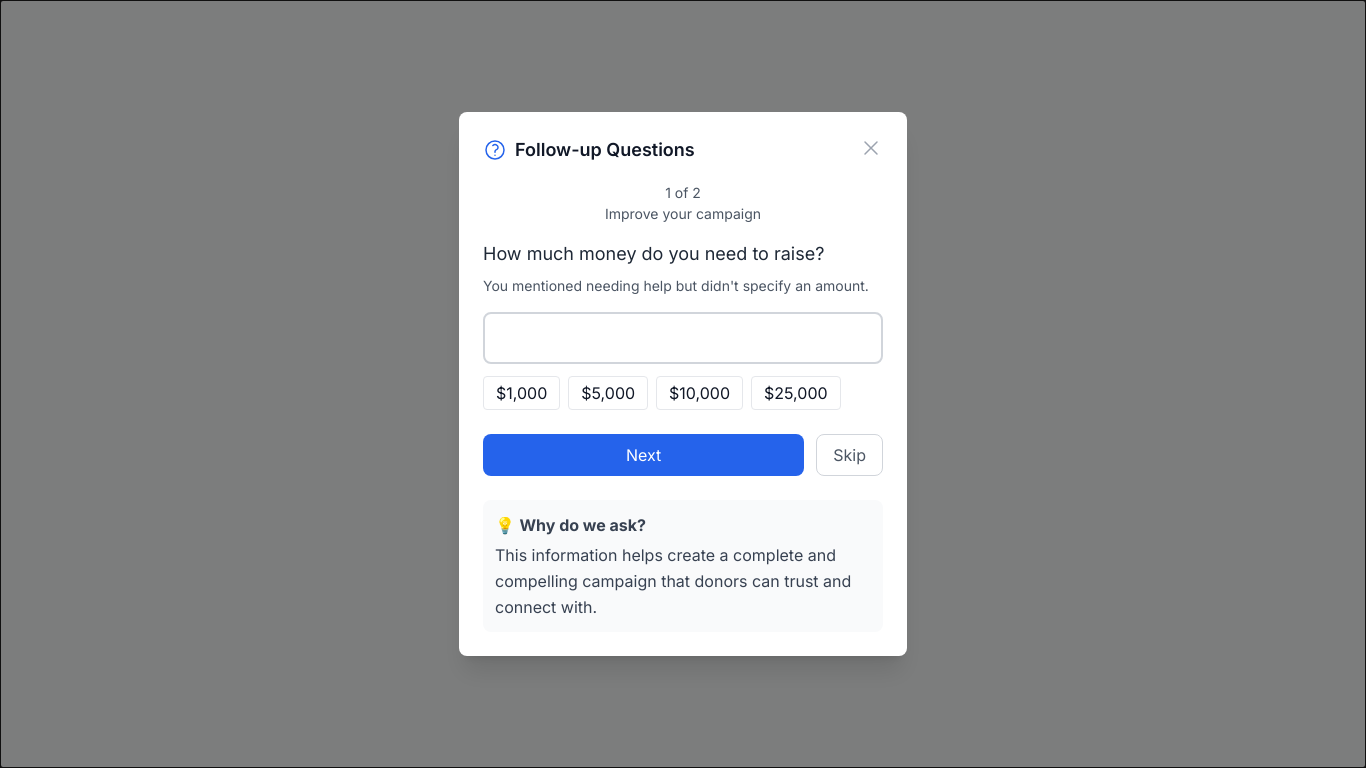
Test: FollowUpQuestionModal Component › Question Navigation › should allow going back to previous questions
The image size is (1366, 768).
// Go to second question
Type "5000" into the field at {"x": 683, "y": 338}, box [483,312,883,364]
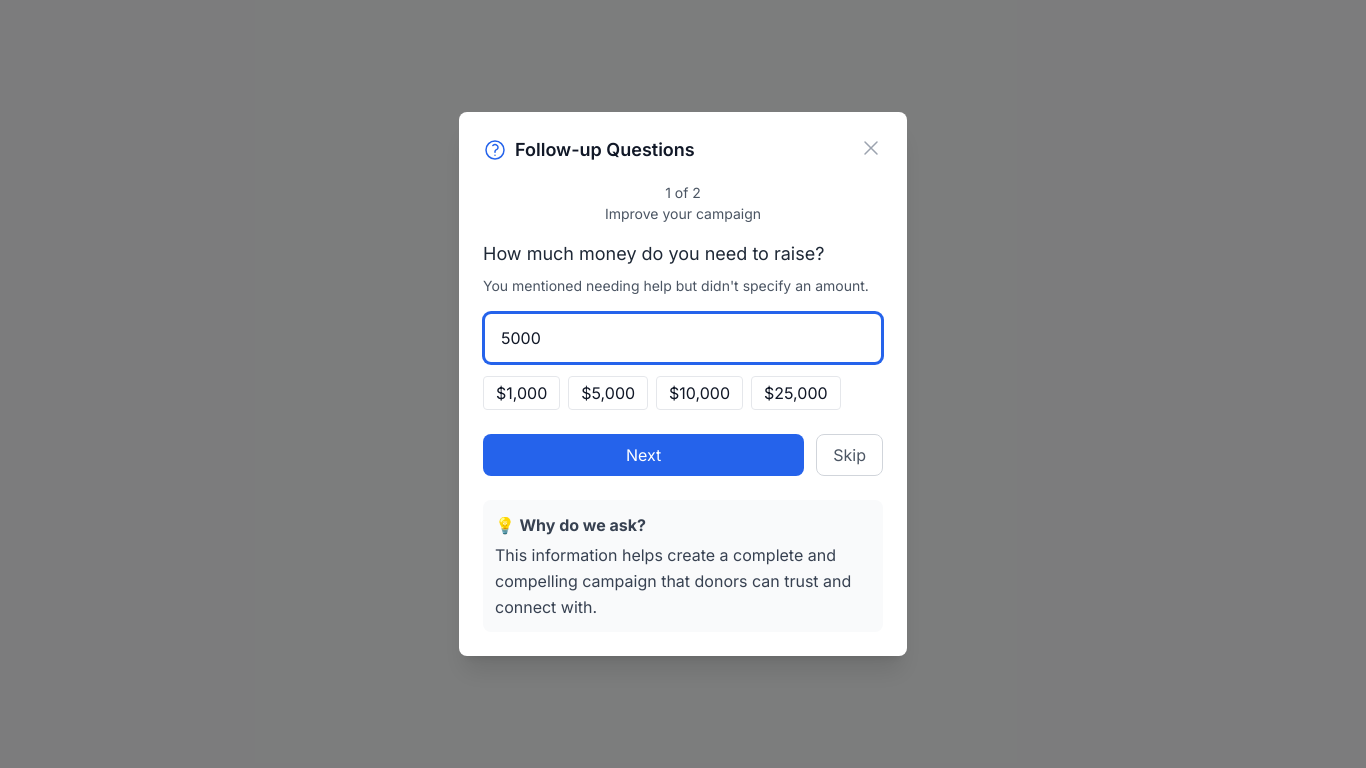
Click the button "Next" at {"x": 644, "y": 455}, box [483,434,804,476]
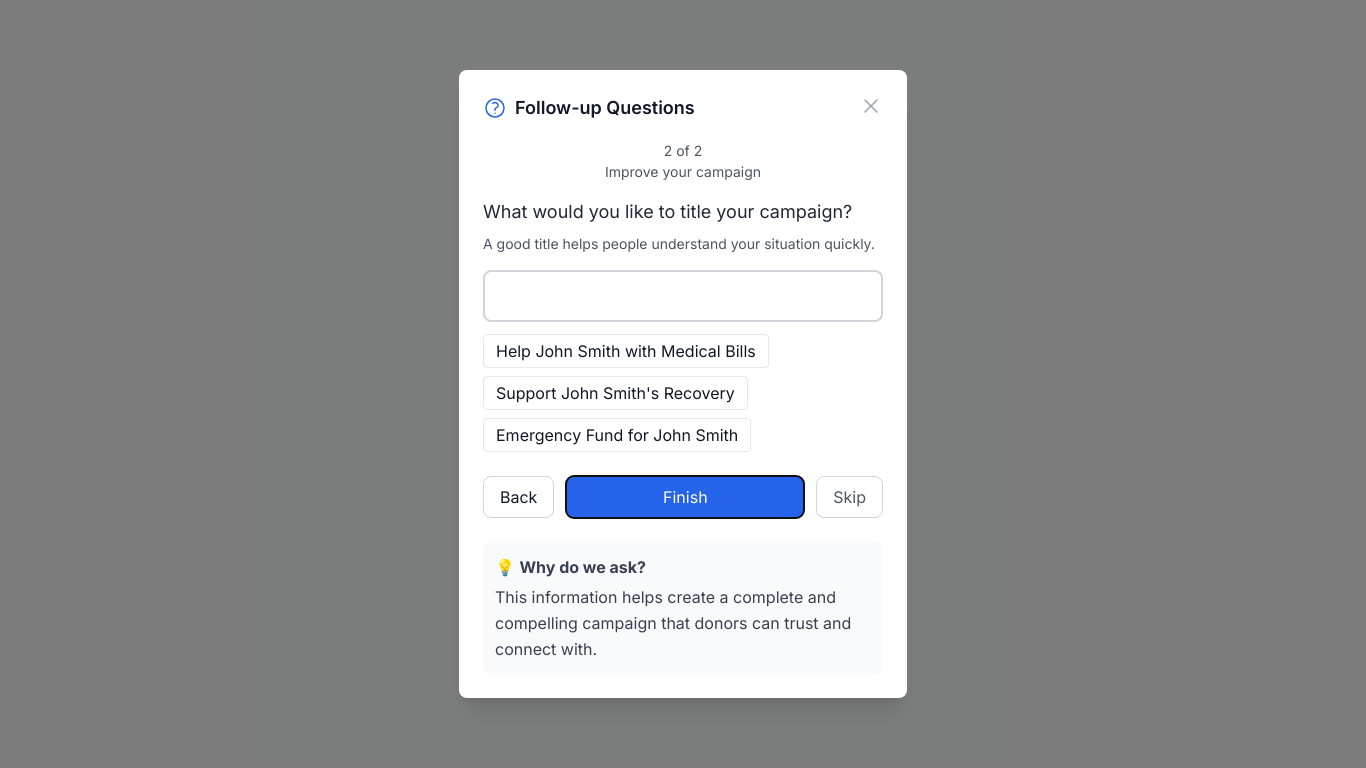
//  Go back
Click the button "Back" at {"x": 519, "y": 497}, box [483,476,554,518]
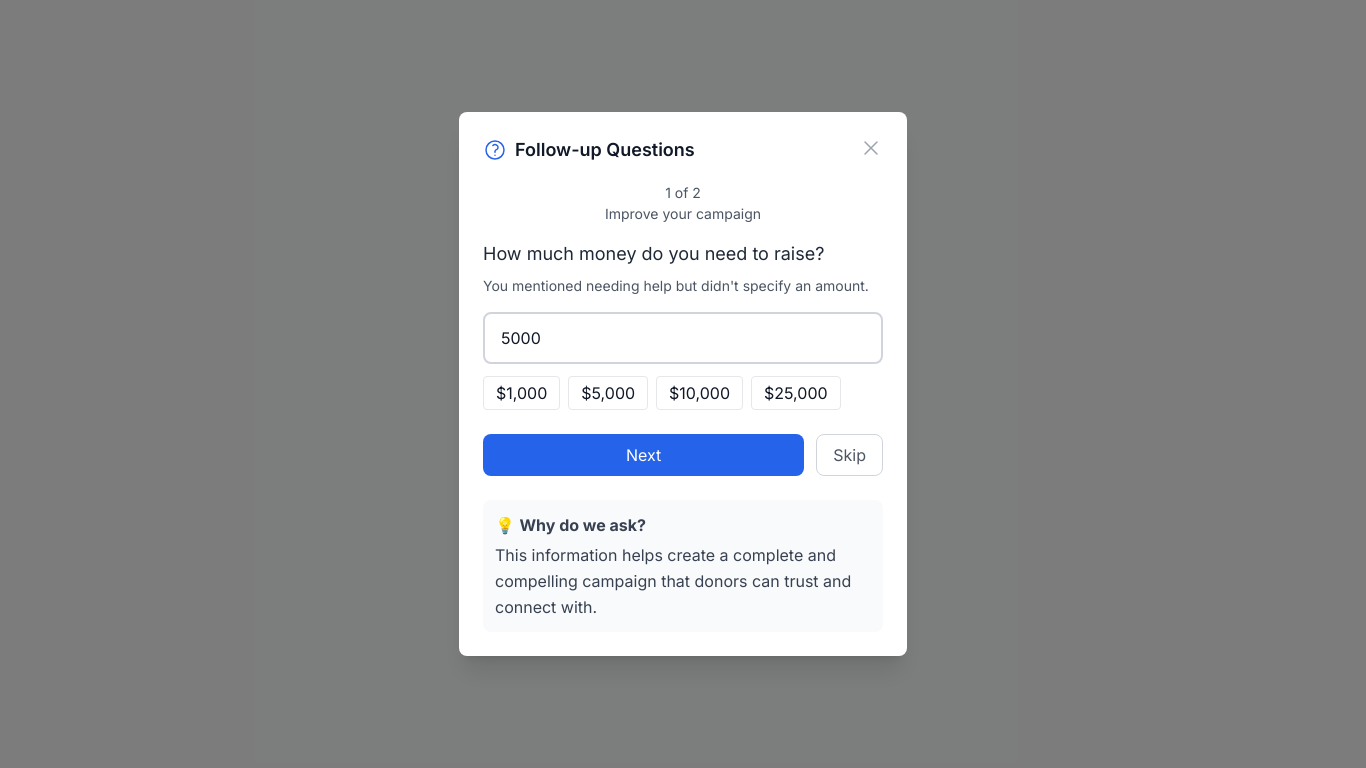
Expected: the text "How much money do you need to raise?" is shown, [483,240,883,268]
Expected: the text "1 of 2" is shown, [665,184,701,201]
